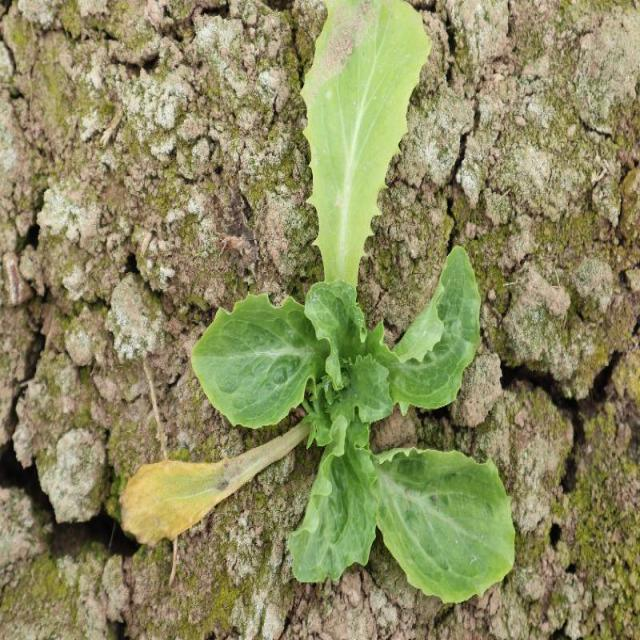crop: (188, 244, 519, 606)
